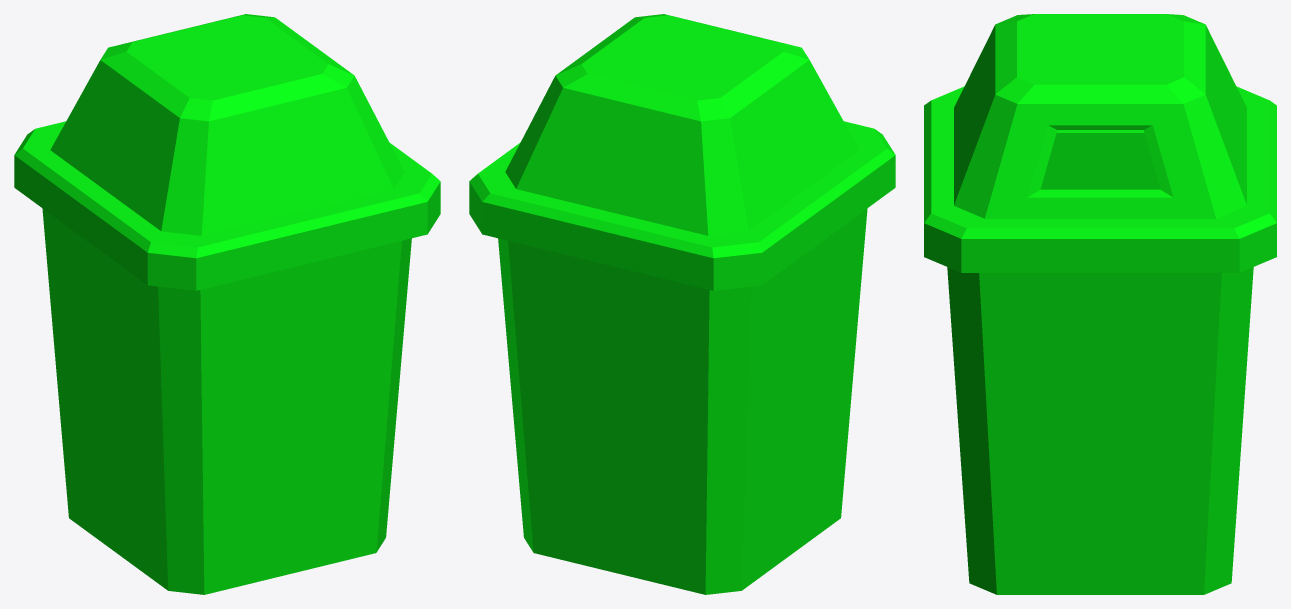
Rendered from trashcan2.0.fbx.
3 renders of one model, left to right at view 1: azimuth 30°, elevation 25°; view 2: azimuth 150°, elevation 25°; view 3: azimuth 270°, elevation 25°, orthographic. The views are drawn at different scales.
Visible parts, largest first — view 1: Cube; view 2: Cube; view 3: Cube.
Part boxes in pixels (<box>): Cube: <box>14,14,440,594</box>; Cube: <box>469,14,895,594</box>; Cube: <box>924,14,1276,594</box>.
Bounding box in the file's own units: 98.17 × 151 × 98.17.
